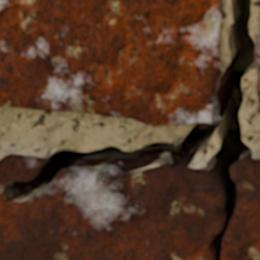brick: (0, 0, 221, 125), (256, 36, 259, 101)
broken_brick: (0, 164, 223, 259), (222, 158, 259, 259), (0, 154, 44, 186)
crack: (0, 0, 257, 259)
